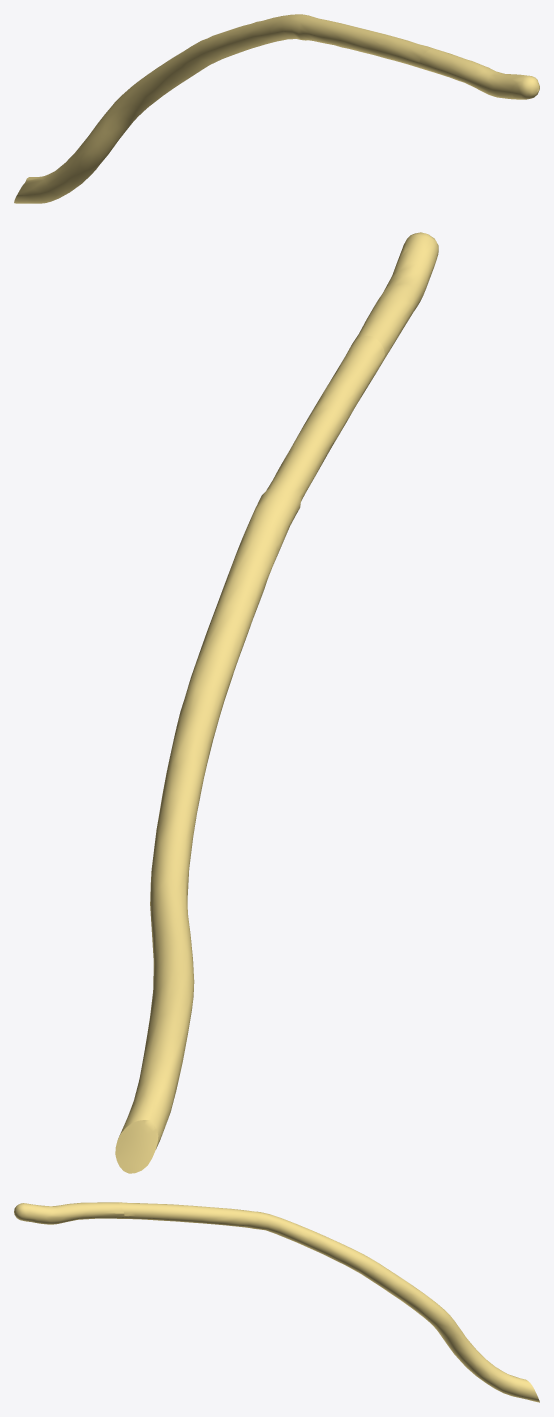
Rendered from fma288214_mm2672.glb.
The picture shows the model from 3 angles, top to bottom: view 1: azimuth 30°, elevation 25°; view 2: azimuth 150°, elevation 25°; view 3: azimuth 270°, elevation 25°; orthographic projection. The views are drawn at different scales.
Parts seen in each view (by area): view 1: FMA288214_MM2672; view 2: FMA288214_MM2672; view 3: FMA288214_MM2672.
Boxes of the visible parts, box(x1,y1,x2,y2) form: FMA288214_MM2672: box(14, 14, 539, 203); FMA288214_MM2672: box(115, 232, 438, 1173); FMA288214_MM2672: box(14, 1202, 539, 1402).
Size of the model in its own units: 0.0151 by 0.0286 by 0.054.
